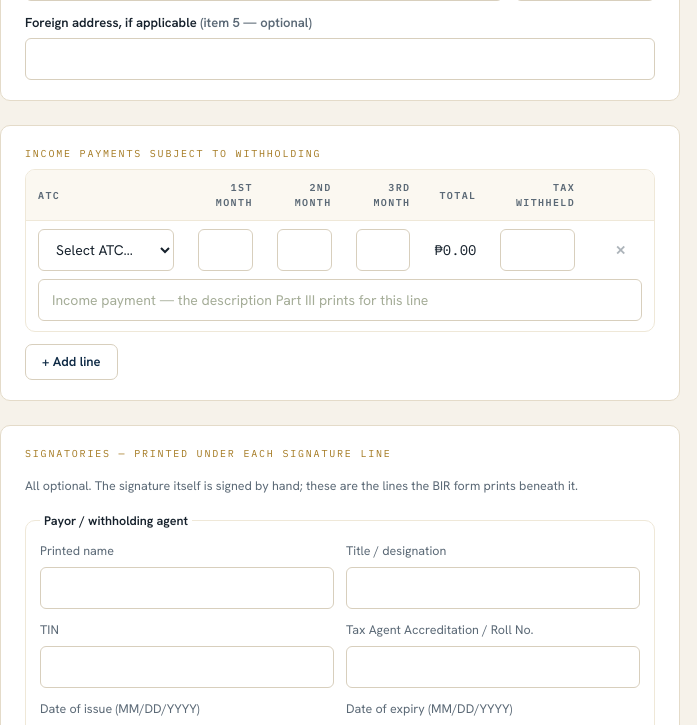
it: T5 the 2307 editor's rules (W3 R4, R6) › gives a new row no ATC, and an added row none either
(page scrolled)
Expected: the dropdown named "ATC, row 1" shows "Select ATC…", x1=38 y1=229 x2=174 y2=271
Click the button "+ Add line".
click(71, 362)  # box x1=25 y1=344 x2=118 y2=380
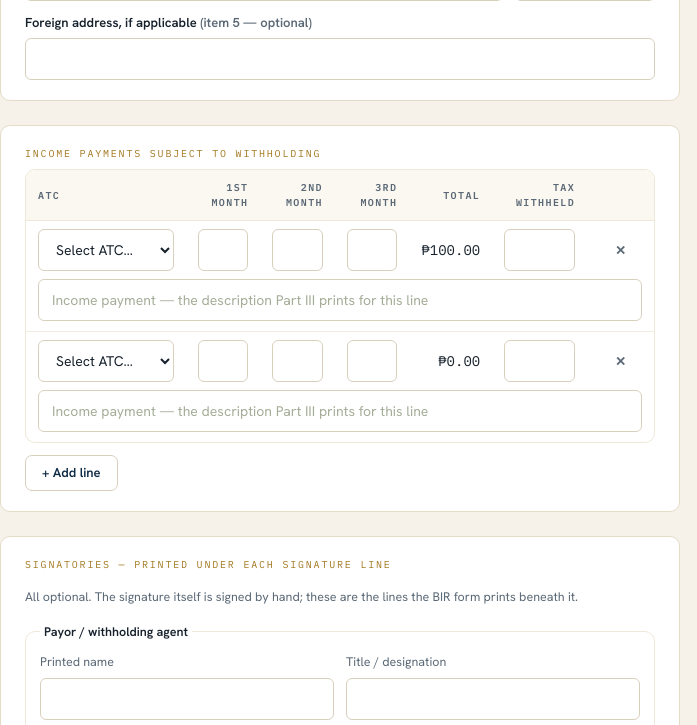
Expected: the dropdown named "ATC, row 2" shows "Select ATC…", x1=38 y1=340 x2=174 y2=382
